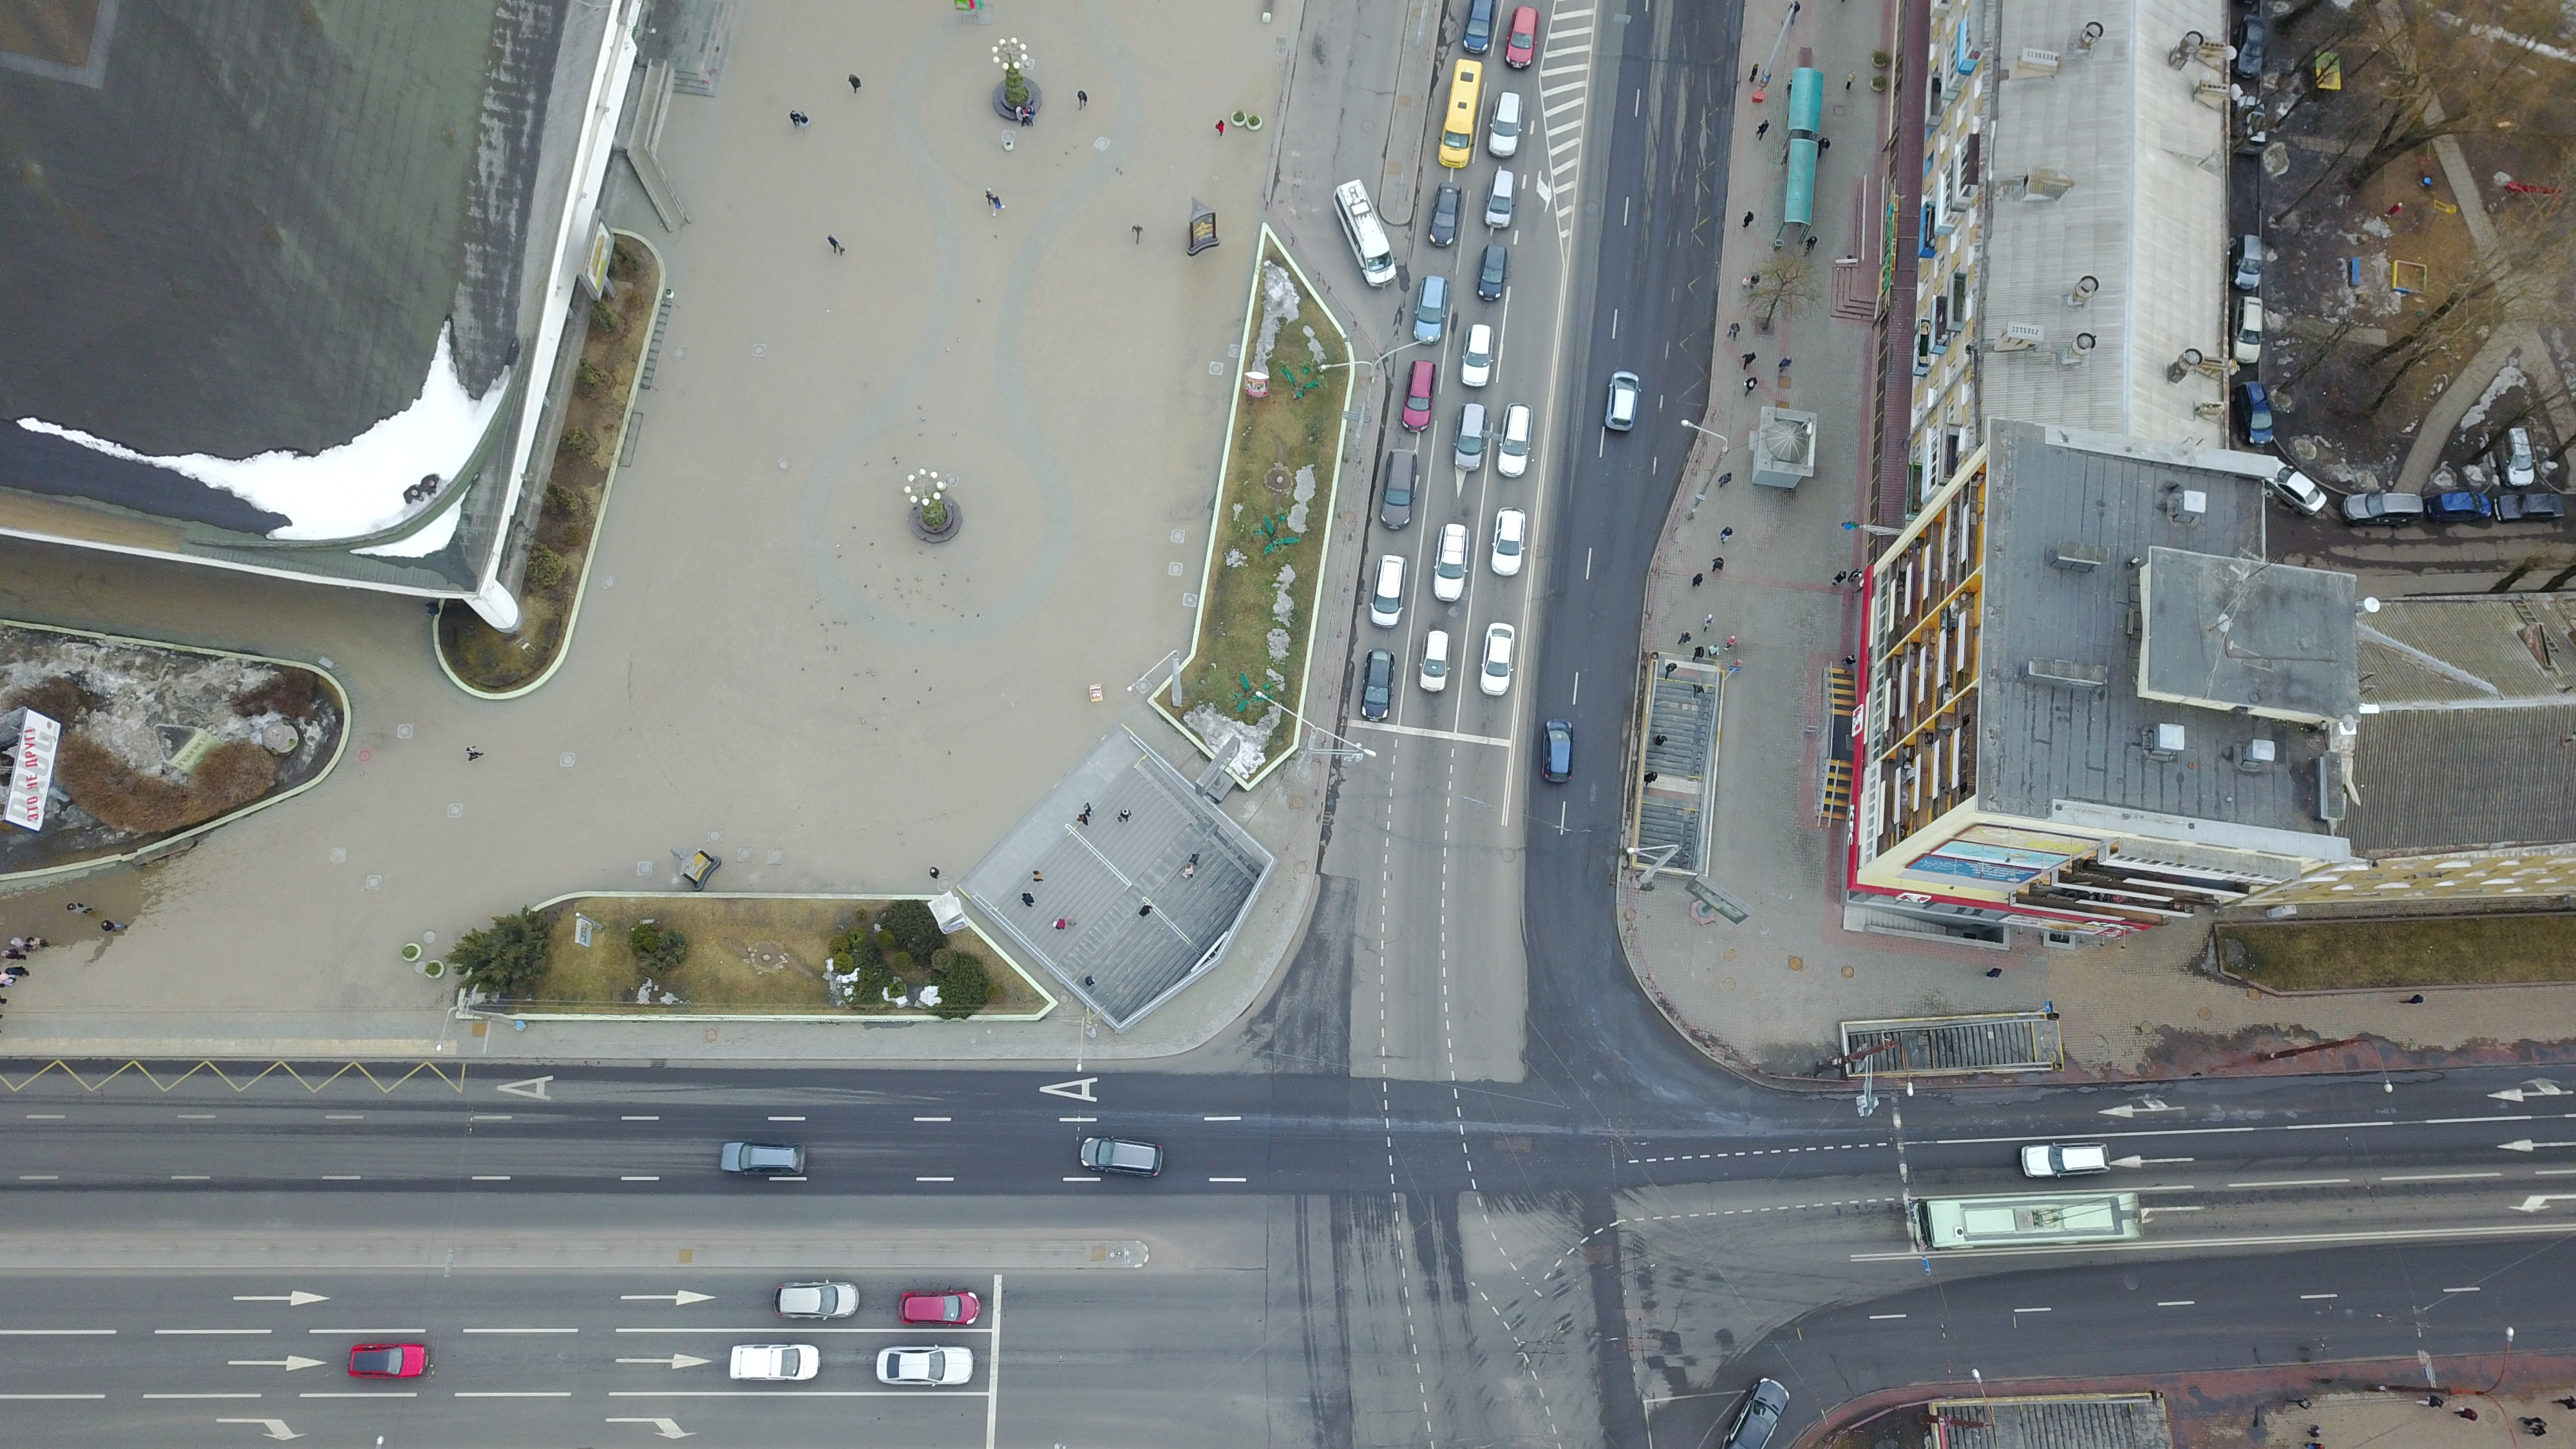car: (869, 1343, 984, 1396), (725, 1339, 828, 1391), (1076, 1134, 1171, 1189), (771, 1276, 863, 1329), (2015, 1136, 2118, 1180), (1428, 518, 1476, 602), (715, 1139, 810, 1180), (1493, 400, 1537, 485), (1378, 444, 1422, 529), (897, 1284, 980, 1329), (1479, 617, 1522, 702), (1599, 366, 1647, 441), (343, 1339, 433, 1378), (1366, 552, 1410, 628), (1357, 644, 1398, 725), (1398, 356, 1440, 433), (1500, 0, 1539, 80), (1410, 269, 1451, 345), (1484, 88, 1529, 157), (1481, 166, 1527, 232), (1456, 322, 1499, 389), (1491, 504, 1529, 580), (1422, 179, 1463, 246), (1539, 715, 1578, 784), (1414, 628, 1451, 699), (1451, 400, 1486, 472), (1472, 241, 1511, 303)
